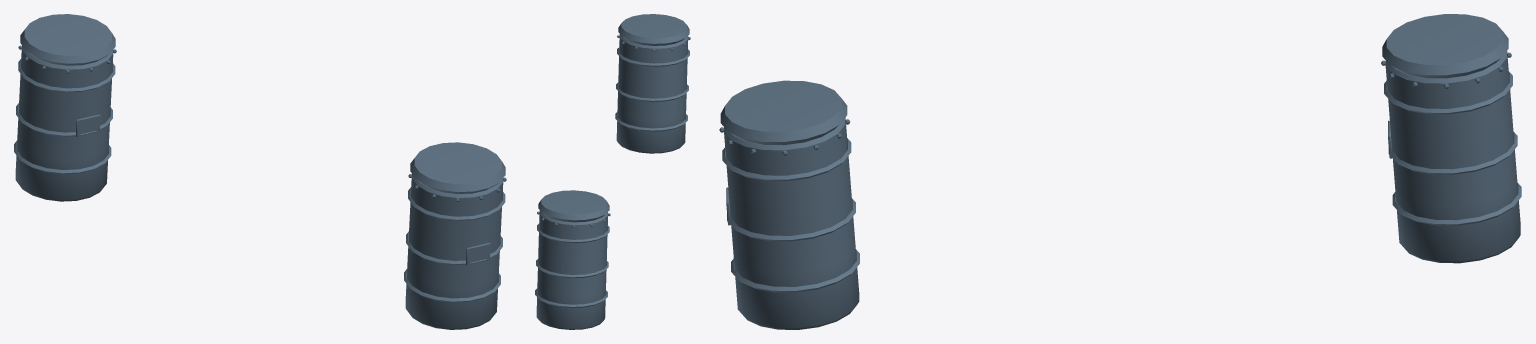
The model's file is nomad_building_b31_decor.fbx.
3 renders of one model, left to right at view 1: azimuth 30°, elevation 25°; view 2: azimuth 150°, elevation 25°; view 3: azimuth 270°, elevation 25°, orthographic. The views are drawn at different scales.
Visible parts, largest first — view 1: C__BarStools__01, C__BarStools__02; view 2: C__BarStools__01, C__BarStools__02; view 3: C__BarStools__02, C__BarStools__01.
Part boxes in pixels (x1,y1,x2,y2): C__BarStools__01: (14, 14, 116, 201); C__BarStools__02: (404, 142, 506, 329); C__BarStools__01: (535, 190, 610, 329); C__BarStools__02: (615, 14, 690, 153); C__BarStools__02: (719, 80, 859, 329); C__BarStools__01: (1381, 14, 1521, 263).
Bounding box in the file's own units: 197 × 144 × 452.
